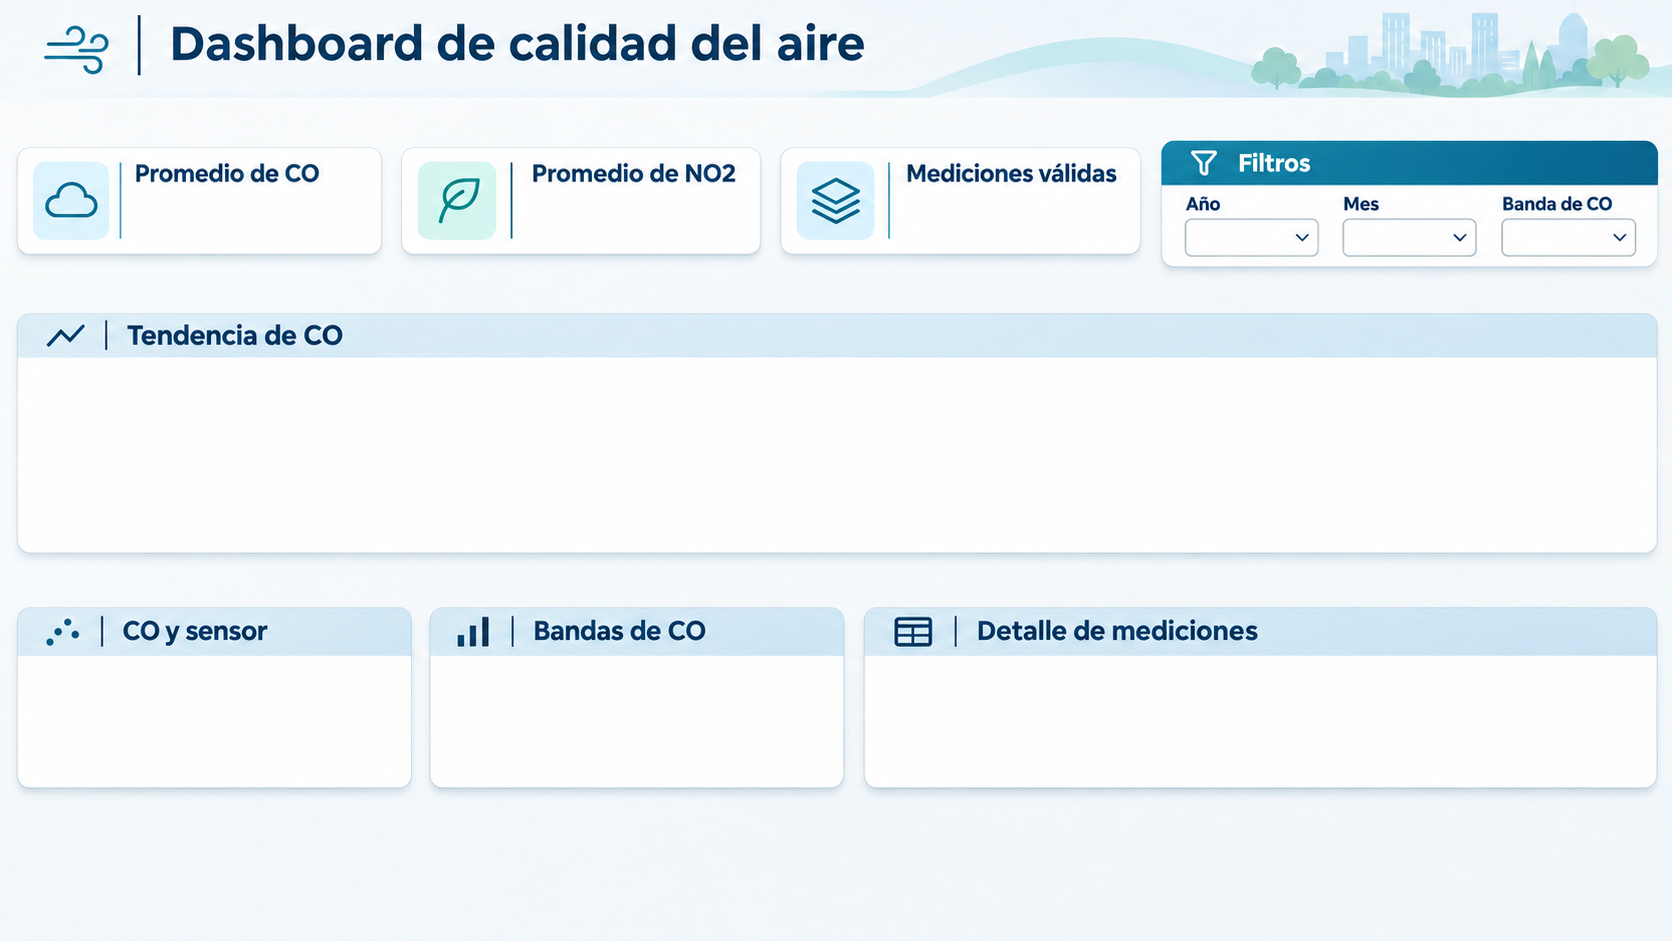

This screenshot's page, from the dashboard's own definition file:
{"tool":"powerbi","page":{"name":"Página 1","canvas":[1920,1080],"ordinal":0},"visuals":[{"type":"cardVisual","fields":{"Data":["Avg(hecho_calidad_aire.co_gt)"]},"box":[425.1,120.9,300,300],"z":0},{"type":"cardVisual","fields":{"Data":["Avg(hecho_calidad_aire.no2_gt)"]},"box":[74.7,120.9,300,300],"z":1000},{"type":"clusteredColumnChart","fields":{"Category":["hecho_calidad_aire.banda_co"],"Y":["CountNonNull(hecho_calidad_aire.banda_co)"]},"box":[758.7,120.9,300,300],"z":2000},{"type":"scatterChart","fields":{"Category":["hecho_calidad_aire.medicion_id"],"X":["Sum(hecho_calidad_aire.co_gt)"],"Y":["Sum(hecho_calidad_aire.pt08_s1_co)"]},"box":[1088,120,300,300],"z":3000},{"type":"slicer","fields":{"Values":["dim_tiempo.anio"]},"box":[74,432,300,300],"z":4000},{"type":"slicer","fields":{"Values":["dim_tiempo.mes"]},"box":[425,431,300,300],"z":5000},{"type":"slicer","fields":{"Values":["hecho_calidad_aire.banda_co"]},"box":[788.2,461.2,300,300],"z":6000},{"type":"textbox","box":[1398,120,300,300],"z":7000}]}

Visuals, with their boxes in screenshot pixels (x1, y1, x2, y2), scaled from the page's 1920x1080 canvas onto the 1672x941 screenshot:
cardVisual - Avg(hecho_calidad_aire.co_gt): [370,105,631,367]
cardVisual - Avg(hecho_calidad_aire.no2_gt): [65,105,326,367]
clusteredColumnChart - hecho_calidad_aire.banda_co x CountNonNull(hecho_calidad_aire.banda_co): [661,105,922,367]
scatterChart - hecho_calidad_aire.medicion_id x Sum(hecho_calidad_aire.co_gt): [947,105,1209,366]
slicer - dim_tiempo.anio: [64,376,326,638]
slicer - dim_tiempo.mes: [370,376,631,637]
slicer - hecho_calidad_aire.banda_co: [686,402,948,663]
textbox: [1217,105,1479,366]
